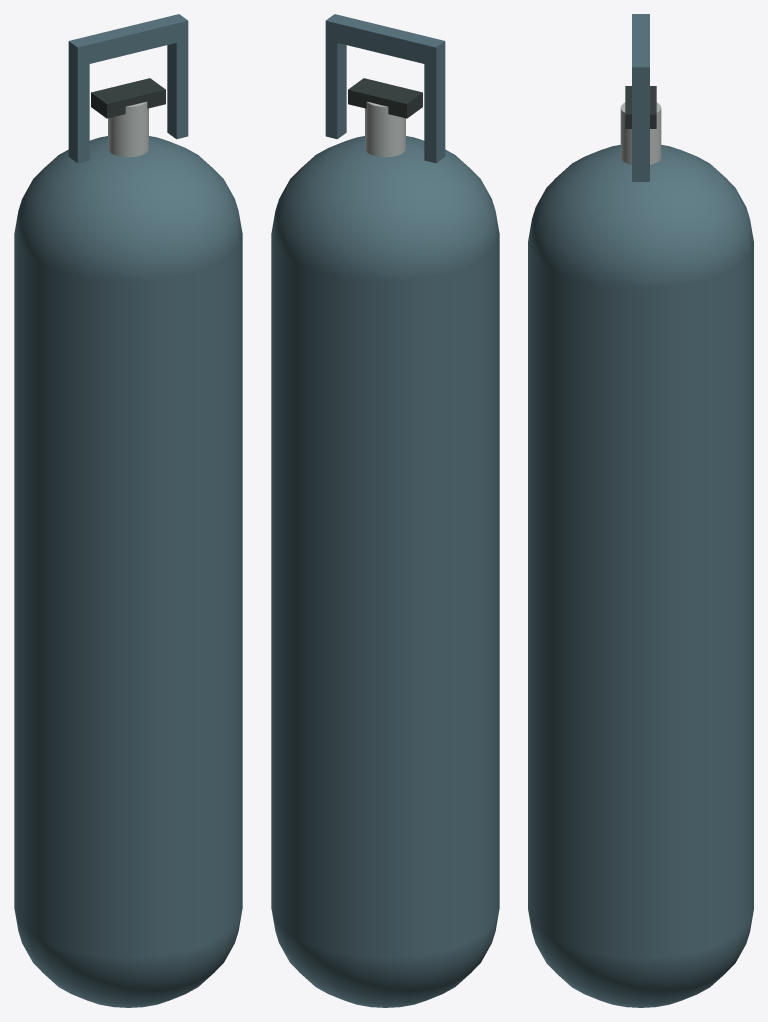
The model's file is gas-cylinder.glb.
3 views of the same model, side by side, from view 1: azimuth 30°, elevation 25°; view 2: azimuth 150°, elevation 25°; view 3: azimuth 270°, elevation 25° (orthographic).
Parts seen in each view (by area): view 1: CylinderBody, UpperDome, LowerDome, GuardBridge, ValveGuard-1, ValveGuard1, ValveStem, ValveKnob; view 2: CylinderBody, UpperDome, LowerDome, GuardBridge, ValveGuard-1, ValveGuard1, ValveStem, ValveKnob; view 3: CylinderBody, UpperDome, LowerDome, ValveGuard1, ValveStem, GuardBridge, ValveKnob.
Part boxes in pixels (x1,y1,x2,y2): CylinderBody: (14,234,242,956); UpperDome: (14,136,242,281); LowerDome: (14,910,242,1007); GuardBridge: (69,14,188,66); ValveGuard-1: (68,38,89,163); ValveGuard1: (167,14,188,139); ValveStem: (108,101,148,157); ValveKnob: (91,78,165,118); CylinderBody: (271,234,499,956); UpperDome: (271,136,499,281); LowerDome: (271,910,499,1007); GuardBridge: (325,14,445,65); ValveGuard-1: (424,38,445,163); ValveGuard1: (325,14,346,139); ValveStem: (365,101,405,157); ValveKnob: (348,78,422,118); CylinderBody: (528,241,753,957); UpperDome: (528,145,753,288); LowerDome: (528,911,753,1007); ValveGuard1: (632,61,649,181); ValveStem: (620,102,661,164); GuardBridge: (632,14,649,86); ValveKnob: (625,86,656,128).
Bounding box in the file's own units: 0.3 × 1.4 × 0.3.
